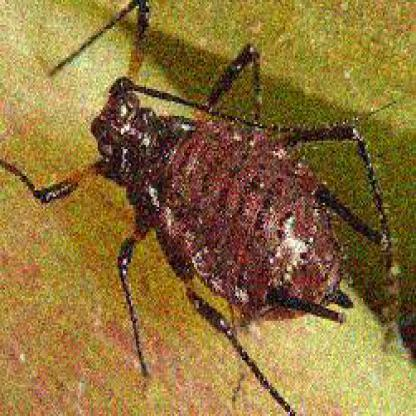uroleucon compositae: (89, 45, 388, 374)
